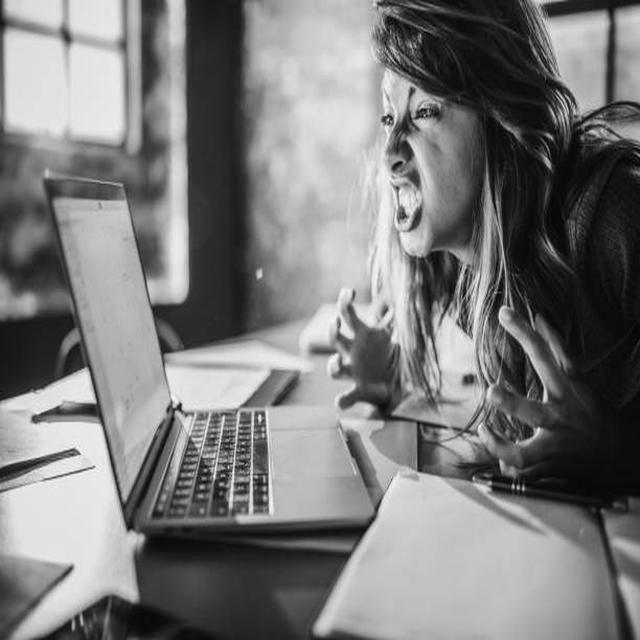Angry: (382, 32, 488, 256)
